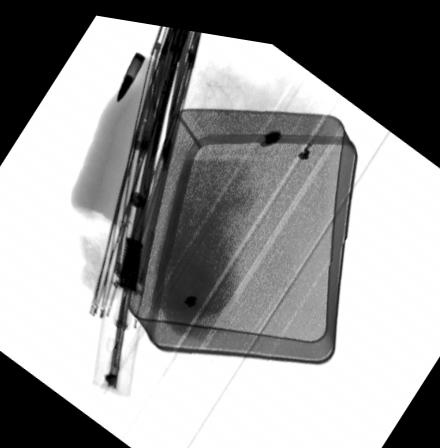Bullet: (115, 45, 145, 100)
